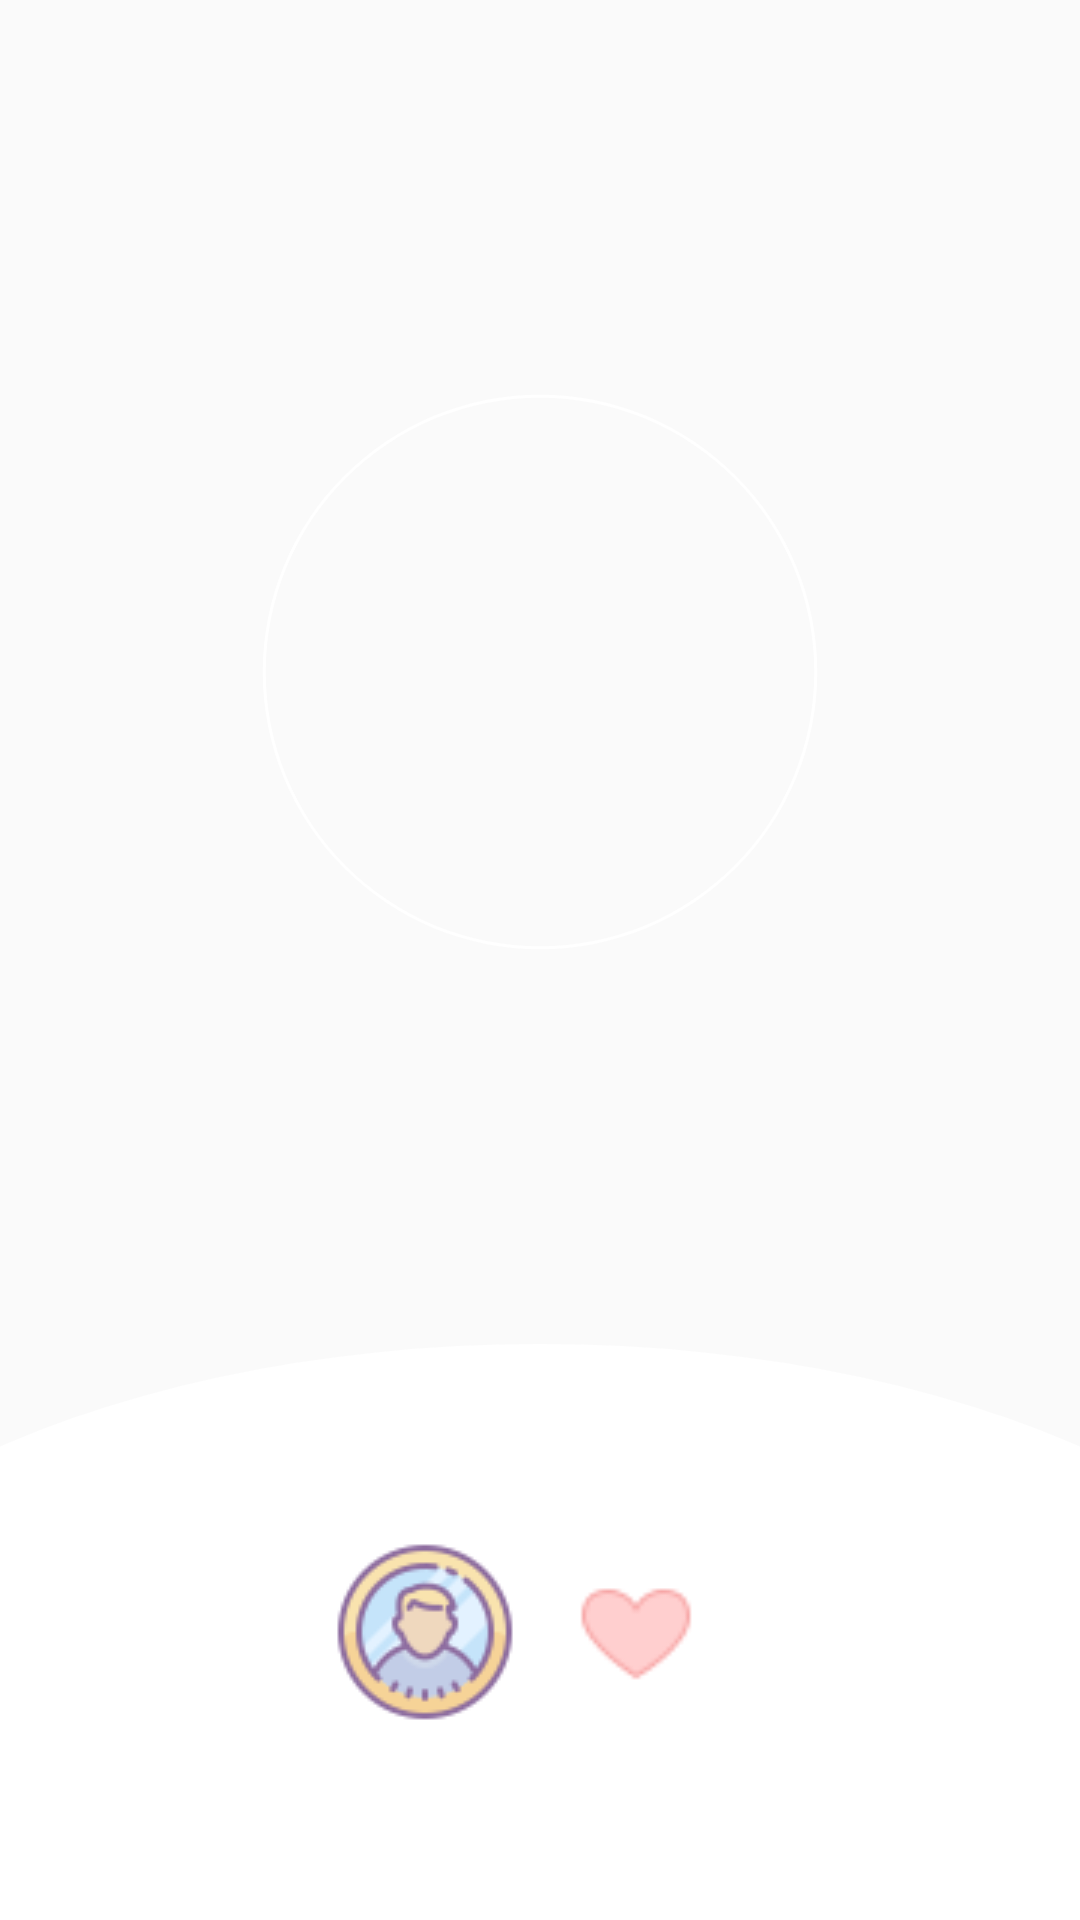

Screen size 1080×1920. Icon name, then its center in pixels as (x=x, y=y):
heart: (x=636, y=1634)
male profile: (x=425, y=1632)
